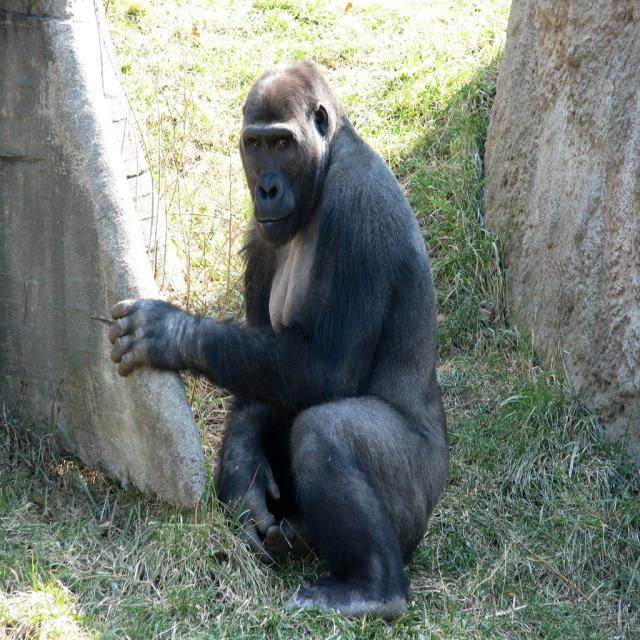Monkey: (110, 57, 448, 619)
